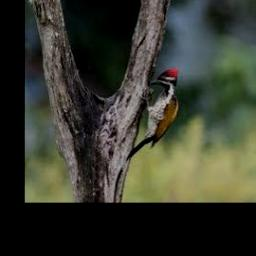Woodpecker: (126, 69, 178, 159)
